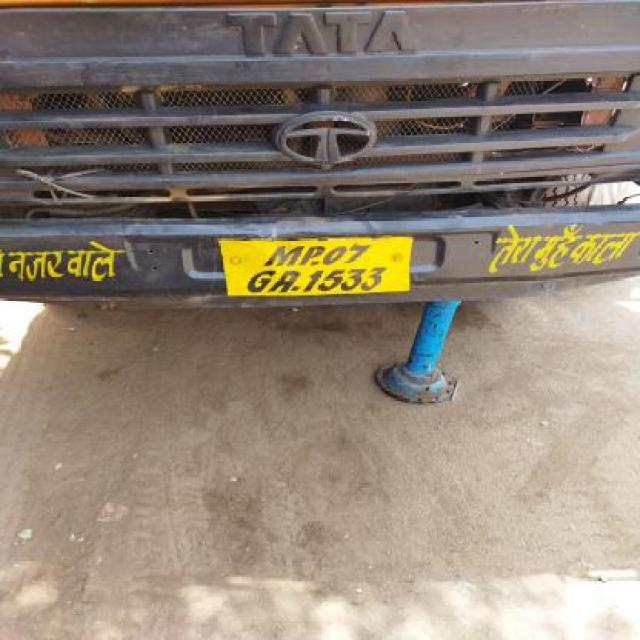Number_Plate_Detected: (214, 234, 413, 301)
